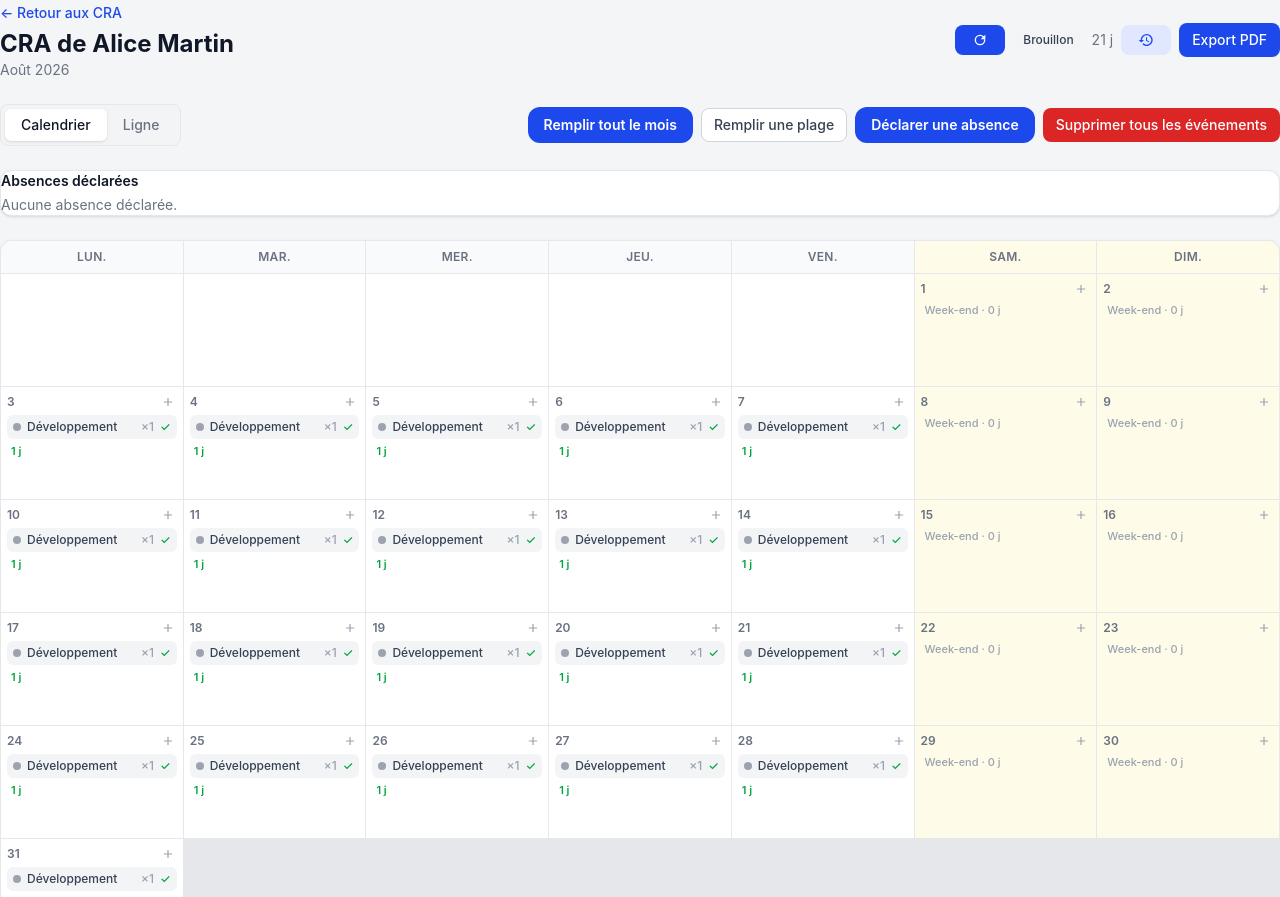
Test case: CraDetail › affiche un message info si l’activité choisie n’autorise pas le week-end
Expected: the heading "CRA de Alice Martin" is shown, left=0, top=28, right=234, bottom=60
Step 1. Click the 1st button named "Ajouter un événement" → (1081, 289), box left=1072, top=280, right=1090, bottom=298
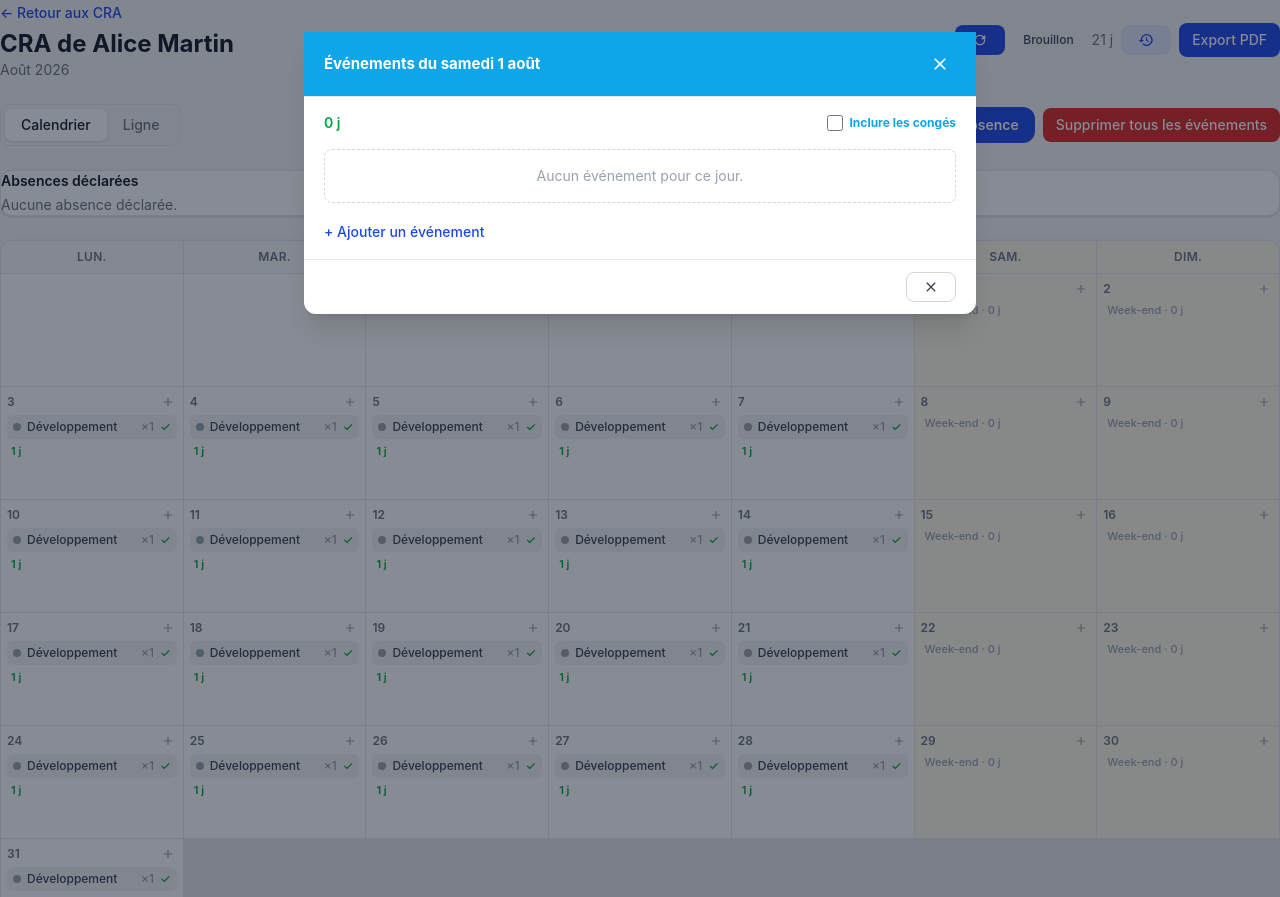
Step 2. Click the button "+ Ajouter un événement" → (404, 232), box left=324, top=222, right=484, bottom=242
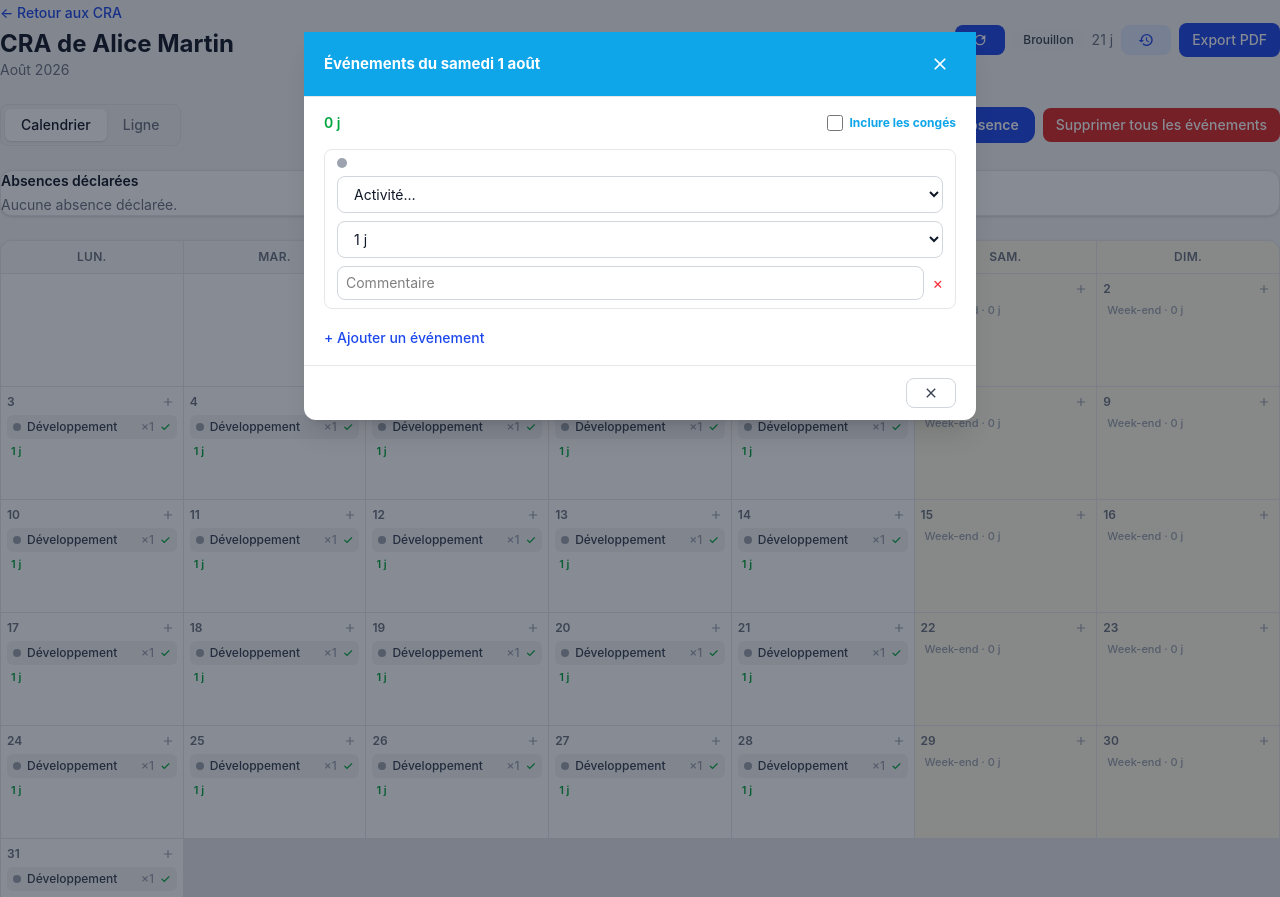
Step 3. Select "Développement" in the 1st dropdown → (640, 194), box left=337, top=176, right=943, bottom=213
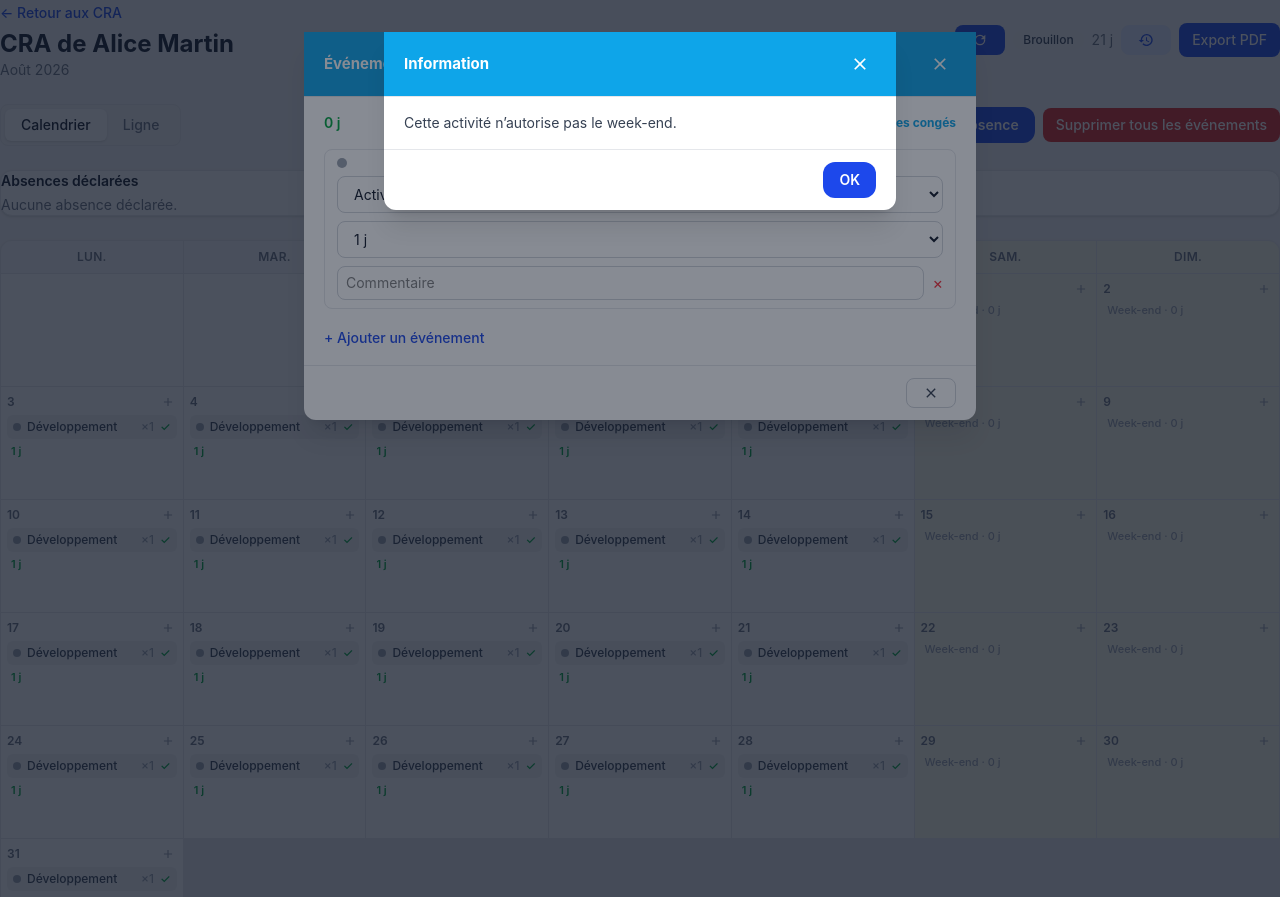
Expected: the heading "Information" is shown, left=404, top=53, right=489, bottom=75
Expected: the text "Cette activité n’autorise pas le week-end." is shown, left=404, top=114, right=677, bottom=131
